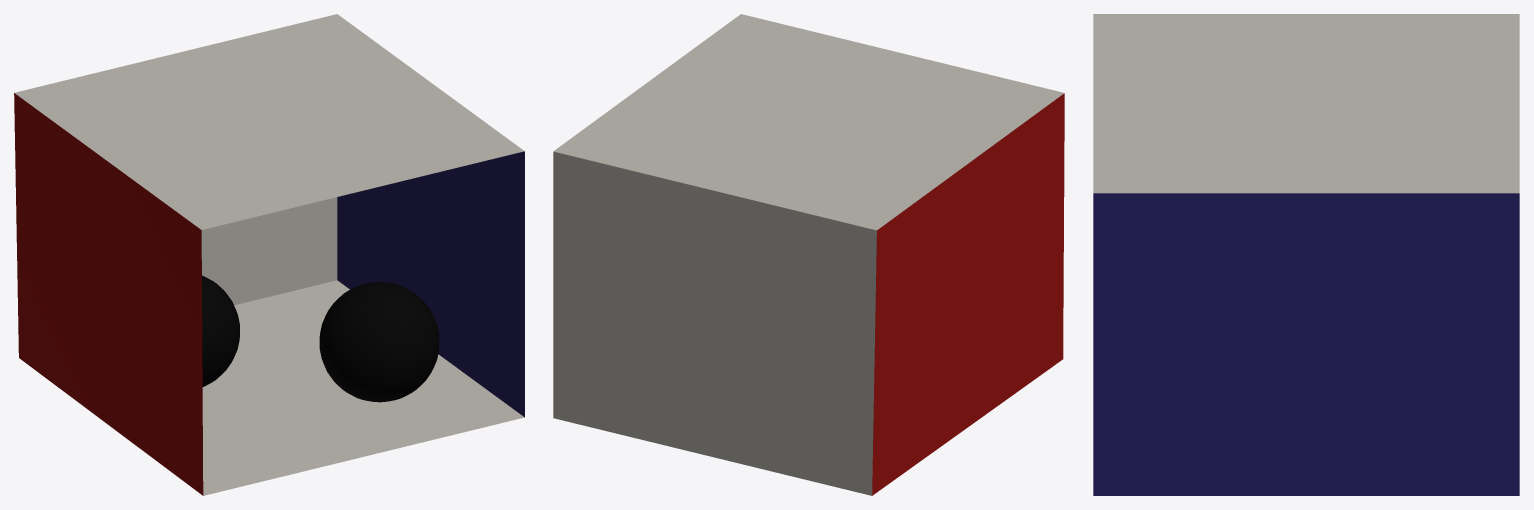
File: CornellBox-SphereNormals.obj
3 views of the same model, side by side, from view 1: azimuth 30°, elevation 25°; view 2: azimuth 150°, elevation 25°; view 3: azimuth 270°, elevation 25° (orthographic). The views are drawn at different scales.
Size of the model in its own units: 2.02 by 1.59 by 2.03.
